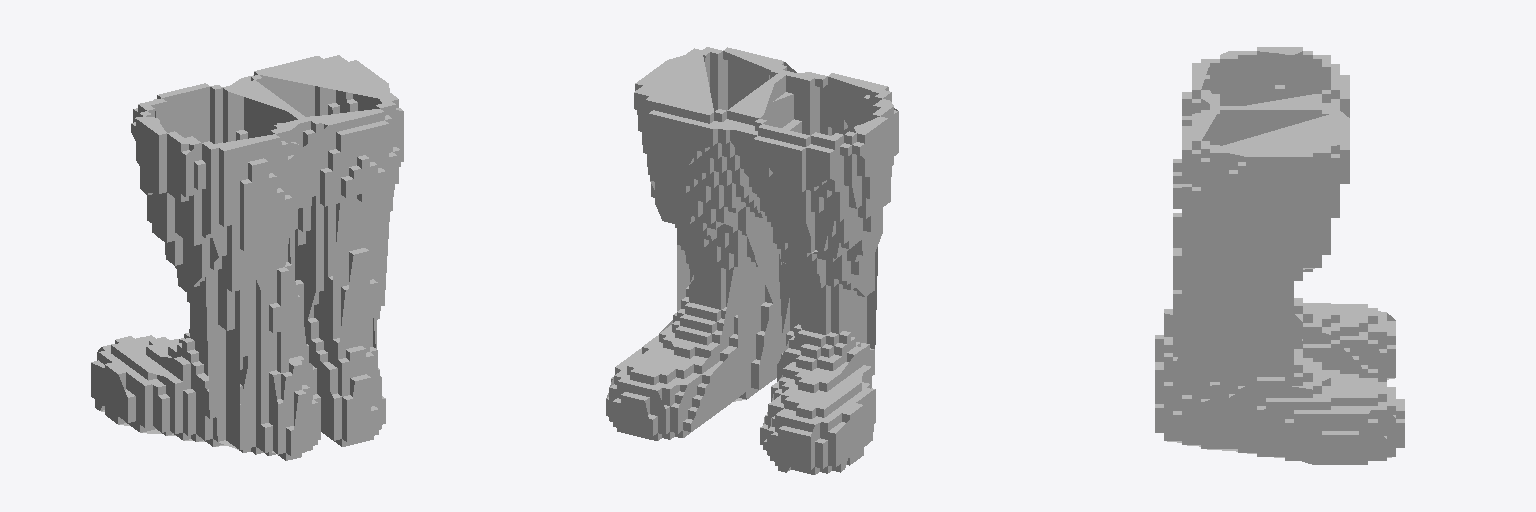
File: Boots_Leather_Fur.obj
3 views of the same model, side by side, from view 1: azimuth 30°, elevation 25°; view 2: azimuth 150°, elevation 25°; view 3: azimuth 270°, elevation 25° (orthographic).
Parts seen in each view (by area): view 1: Boots_Leather_Fur; view 2: Boots_Leather_Fur; view 3: Boots_Leather_Fur.
Boxes of the visible parts, x1,y1,x2,y2 form: Boots_Leather_Fur: [91, 55, 403, 460]; Boots_Leather_Fur: [606, 47, 898, 474]; Boots_Leather_Fur: [1155, 47, 1404, 464].
Size of the model in its own units: 0.29 by 0.37 by 0.27.